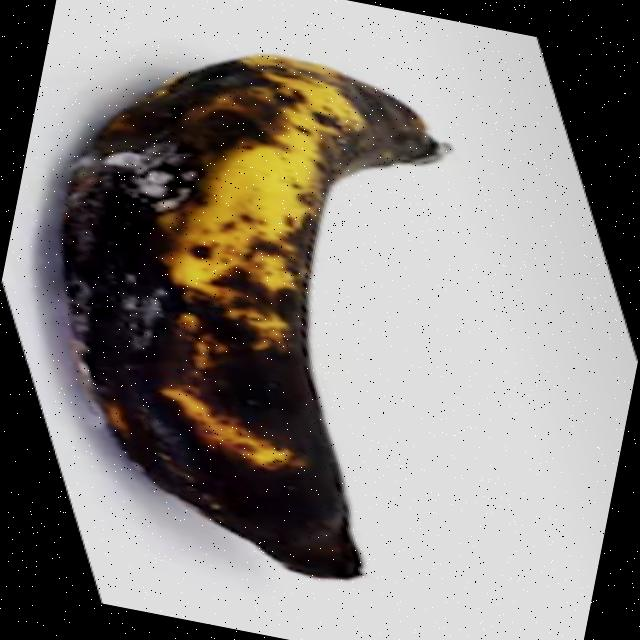Rotten: (0, 17, 469, 590)
